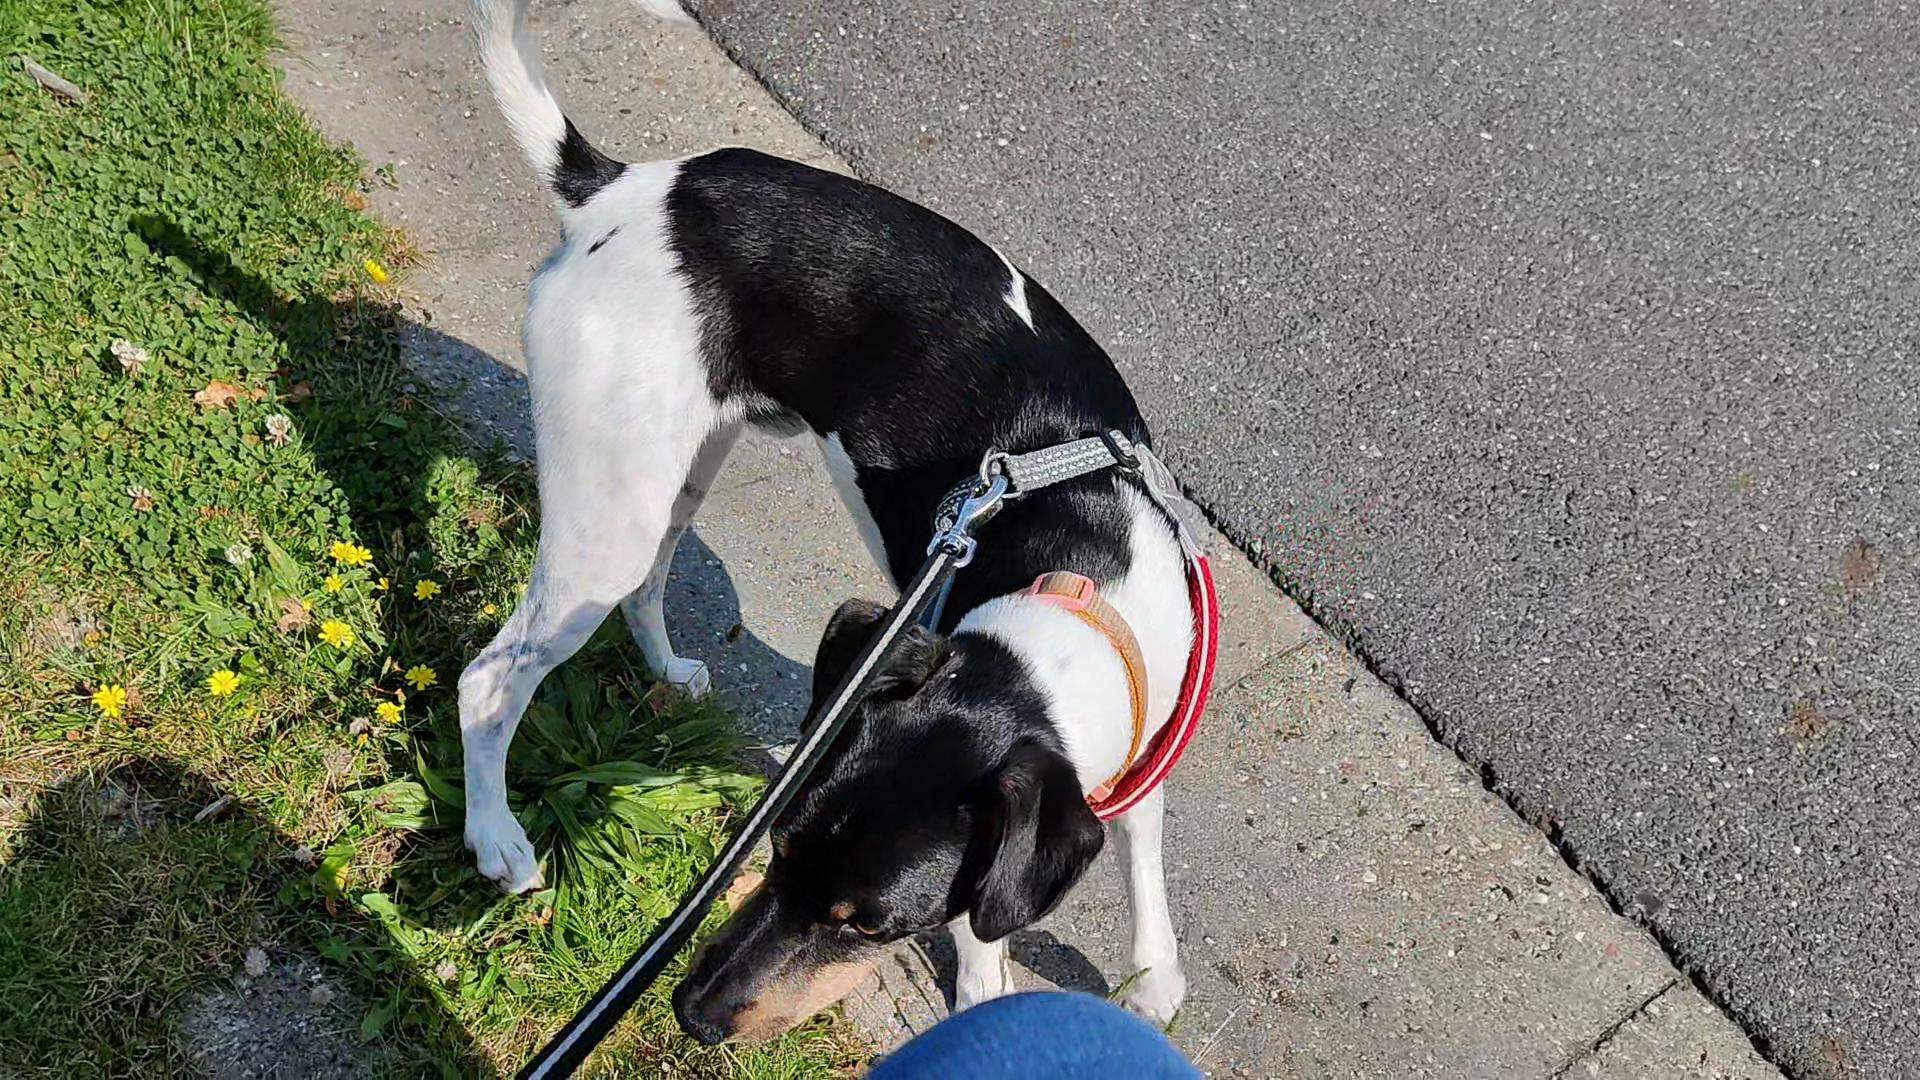Dog: (425, 0, 1224, 1050)
